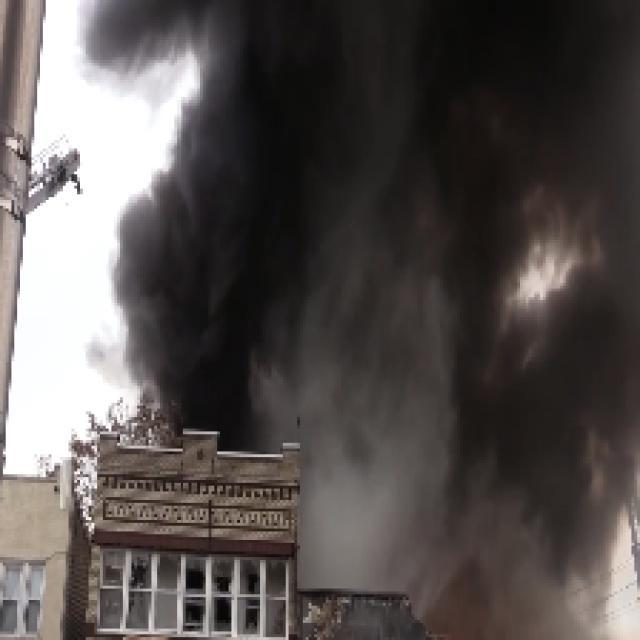Smoke: (213, 3, 632, 438)
